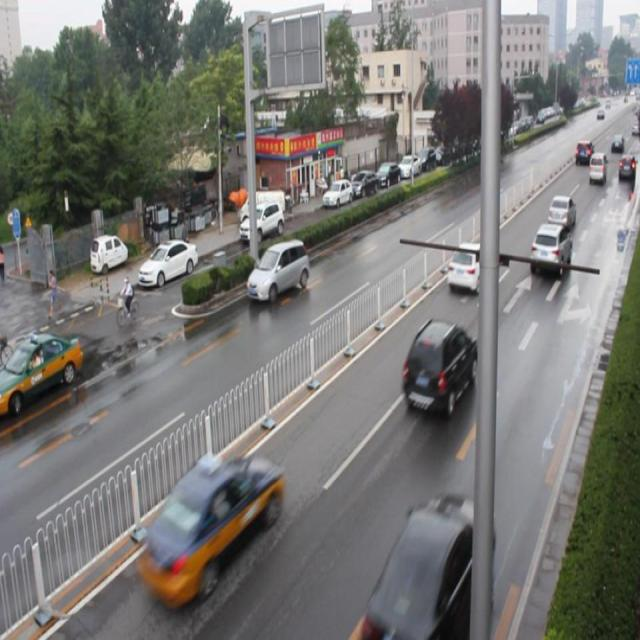car: (141, 450, 283, 589), (368, 488, 493, 640), (403, 316, 476, 416), (246, 239, 308, 301), (446, 240, 498, 296), (530, 222, 570, 278), (547, 194, 573, 228)
truck: (588, 151, 603, 182)
